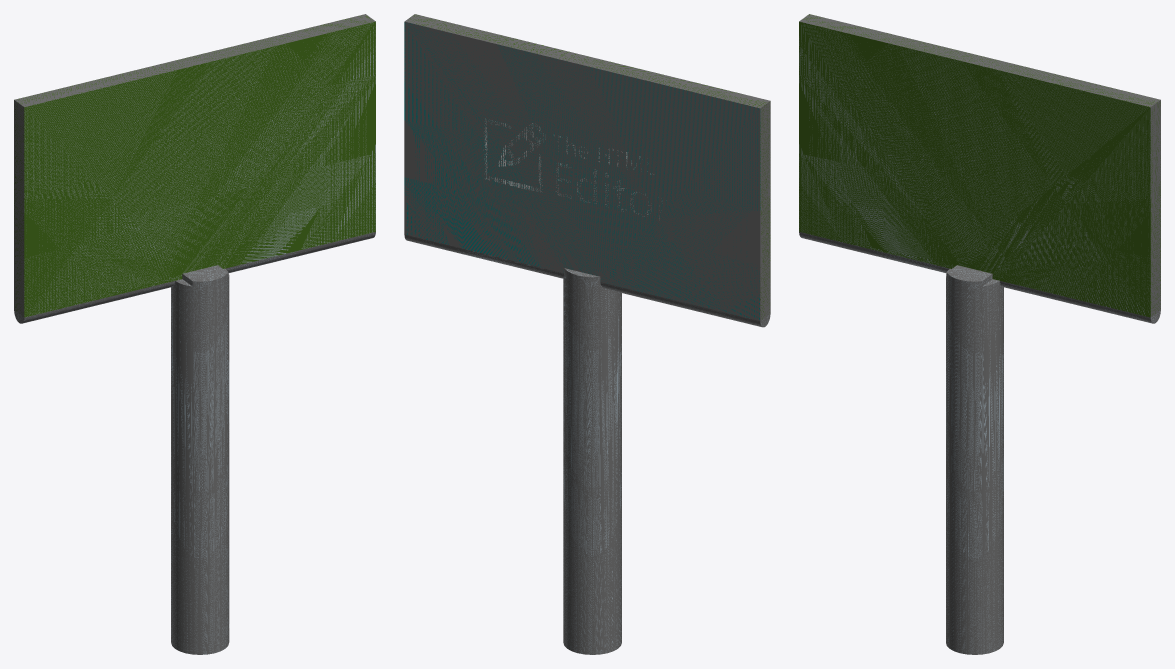
File: pencartethe_dae.dae
The picture shows the model from 3 angles, left to right: view 1: azimuth 30°, elevation 25°; view 2: azimuth 150°, elevation 25°; view 3: azimuth 330°, elevation 25°; orthographic projection.
Visible parts, largest first — view 1: SketchUp (×3); view 2: SketchUp (×3), image_0; view 3: SketchUp (×3).
Part boxes in pixels (x1=…): SketchUp (×3): x1=14, y1=14, x2=375, y2=654; SketchUp (×3): x1=404, y1=14, x2=770, y2=654; image_0: x1=483, y1=118, x2=659, y2=218; SketchUp (×3): x1=799, y1=14, x2=1160, y2=654.
Size of the model in its own units: 27.56 by 3.94 by 43.31.
5 materials, 1 textured.
